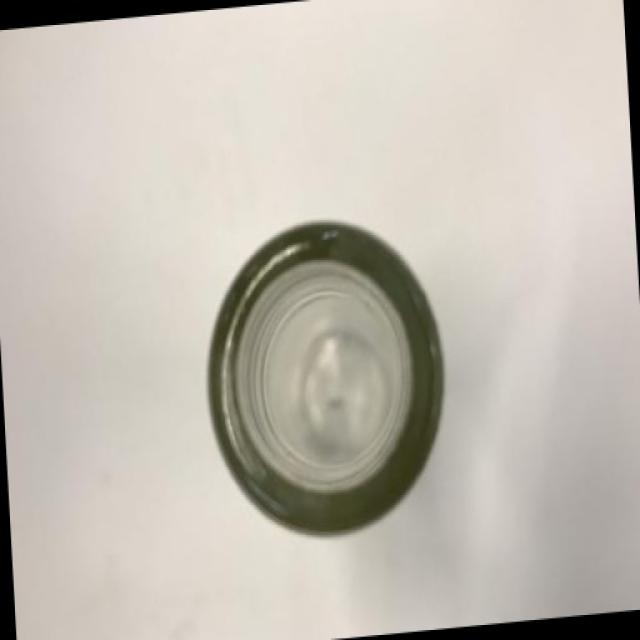vidrio: (149, 168, 532, 573)
